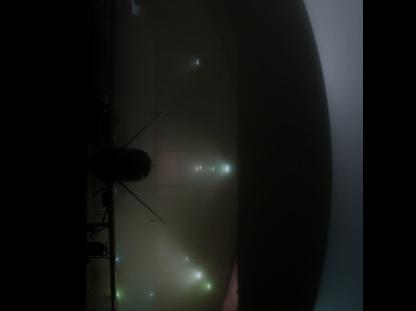P3: (73, 0, 167, 310)
